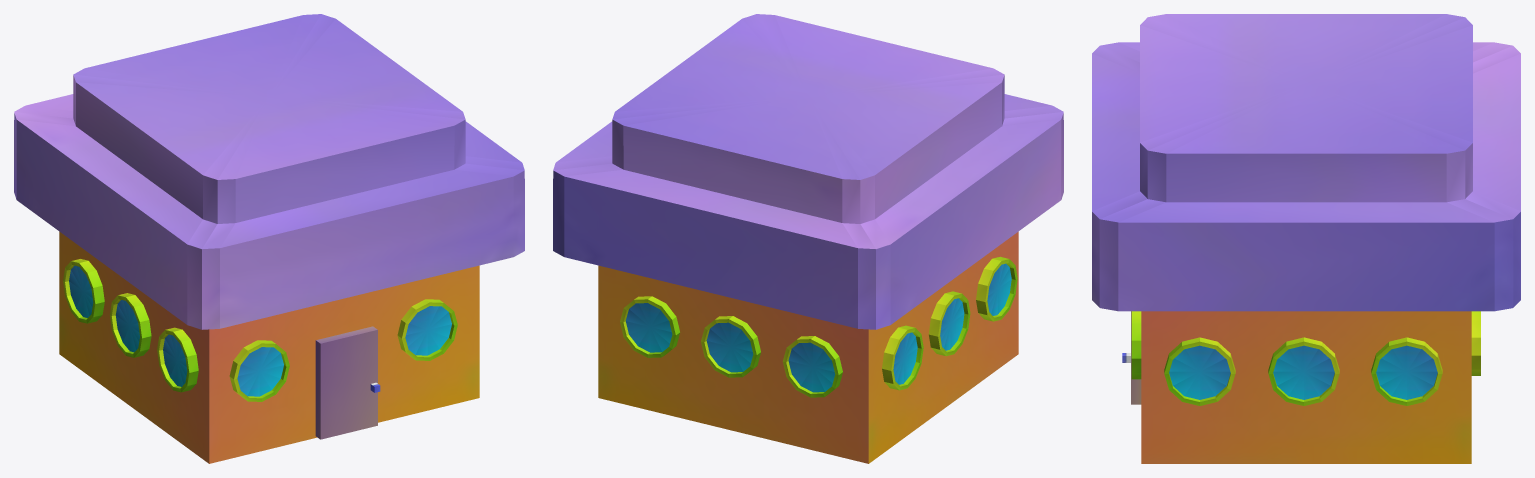
The model's file is House_16.fbx.
3 views of the same model, side by side, from view 1: azimuth 30°, elevation 25°; view 2: azimuth 150°, elevation 25°; view 3: azimuth 270°, elevation 25° (orthographic). The views are drawn at different scales.
Parts seen in each view (by area): view 1: House.16; view 2: House.16; view 3: House.16.
Boxes of the visible parts, x1,y1,x2,y2 form: House.16: (14, 14, 524, 463); House.16: (553, 14, 1063, 463); House.16: (1092, 14, 1520, 463).
Size of the model in its own units: 796 by 634 by 801.
Materials: 1 (1 with a texture image).
